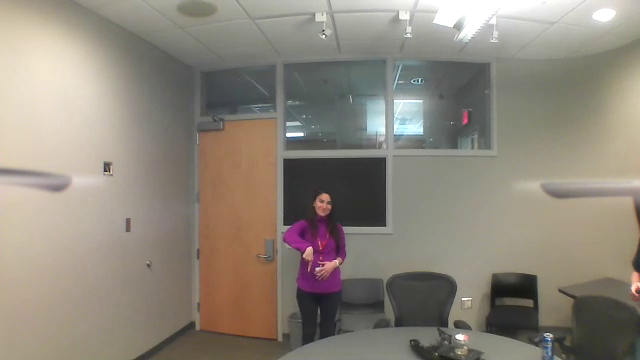down: (301, 242, 313, 274)
